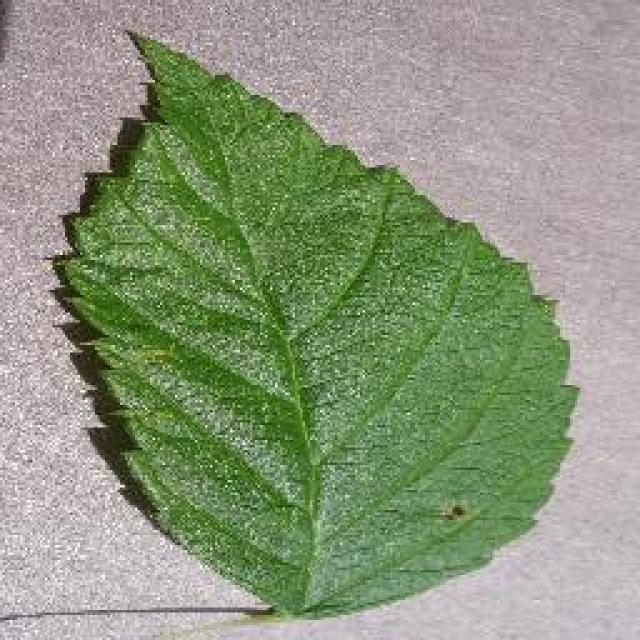Ras_healthy: (78, 95, 554, 570)
